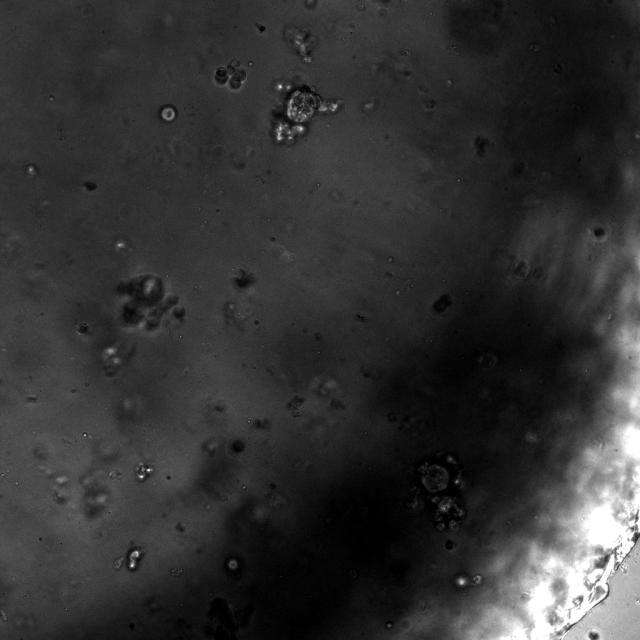organoid: (269, 72, 343, 145), (414, 452, 465, 530), (116, 273, 185, 330), (282, 24, 316, 63), (214, 59, 247, 92), (102, 344, 122, 376), (433, 293, 452, 313), (128, 547, 143, 570), (136, 462, 153, 482), (159, 104, 177, 122), (229, 438, 245, 454), (444, 539, 458, 552), (592, 226, 605, 238), (83, 182, 96, 192), (78, 323, 88, 333)
